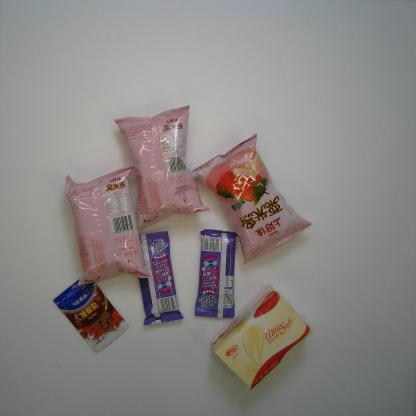Candy: (138, 230, 184, 328), (193, 228, 239, 319)
Puffed Food: (188, 131, 312, 265), (114, 104, 210, 232), (64, 164, 151, 287)
Seasoner: (52, 276, 130, 355)
Tissue: (211, 284, 311, 390)
